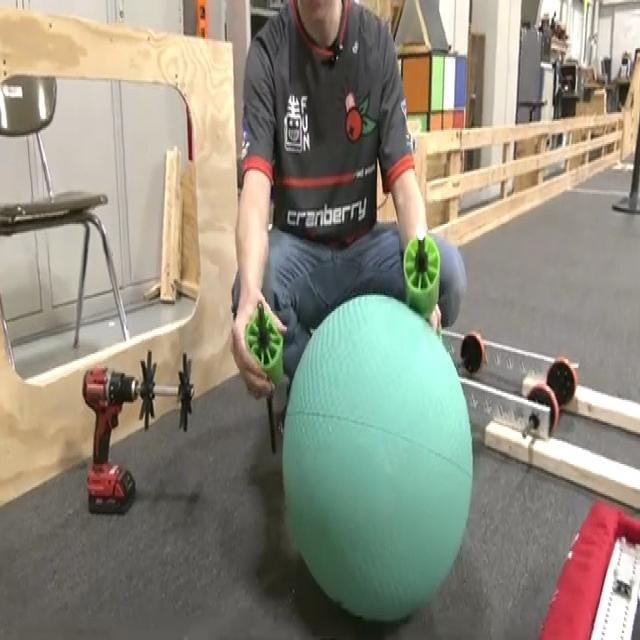Algae: (280, 292, 474, 622)
